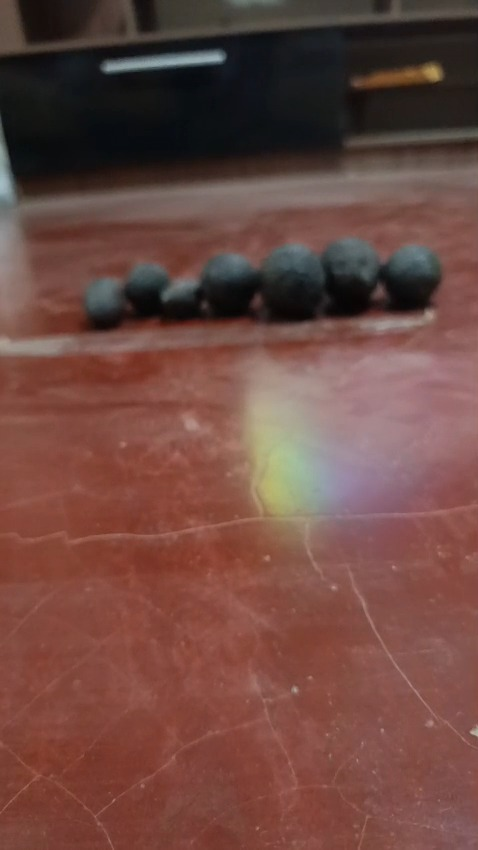Primera: (259, 243, 324, 319), (320, 236, 381, 314)
Segunda: (381, 244, 441, 312), (200, 251, 259, 316), (125, 261, 171, 316)
Tercera: (84, 276, 125, 328), (160, 278, 202, 319)
